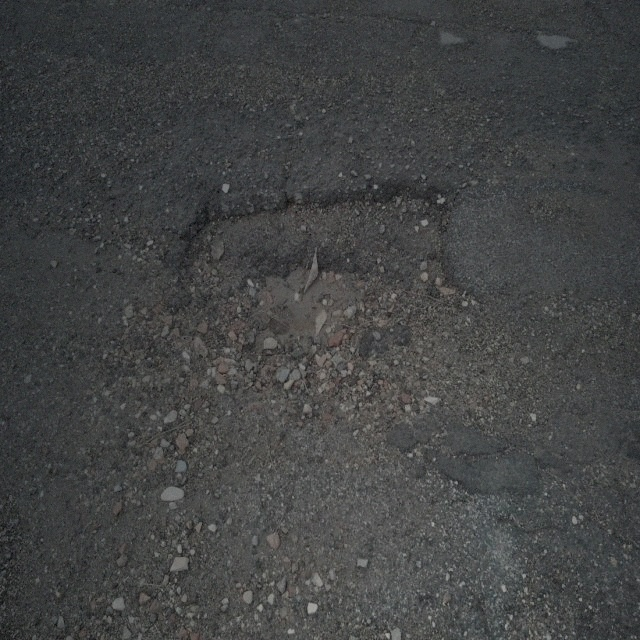pothole: (162, 170, 462, 382)
